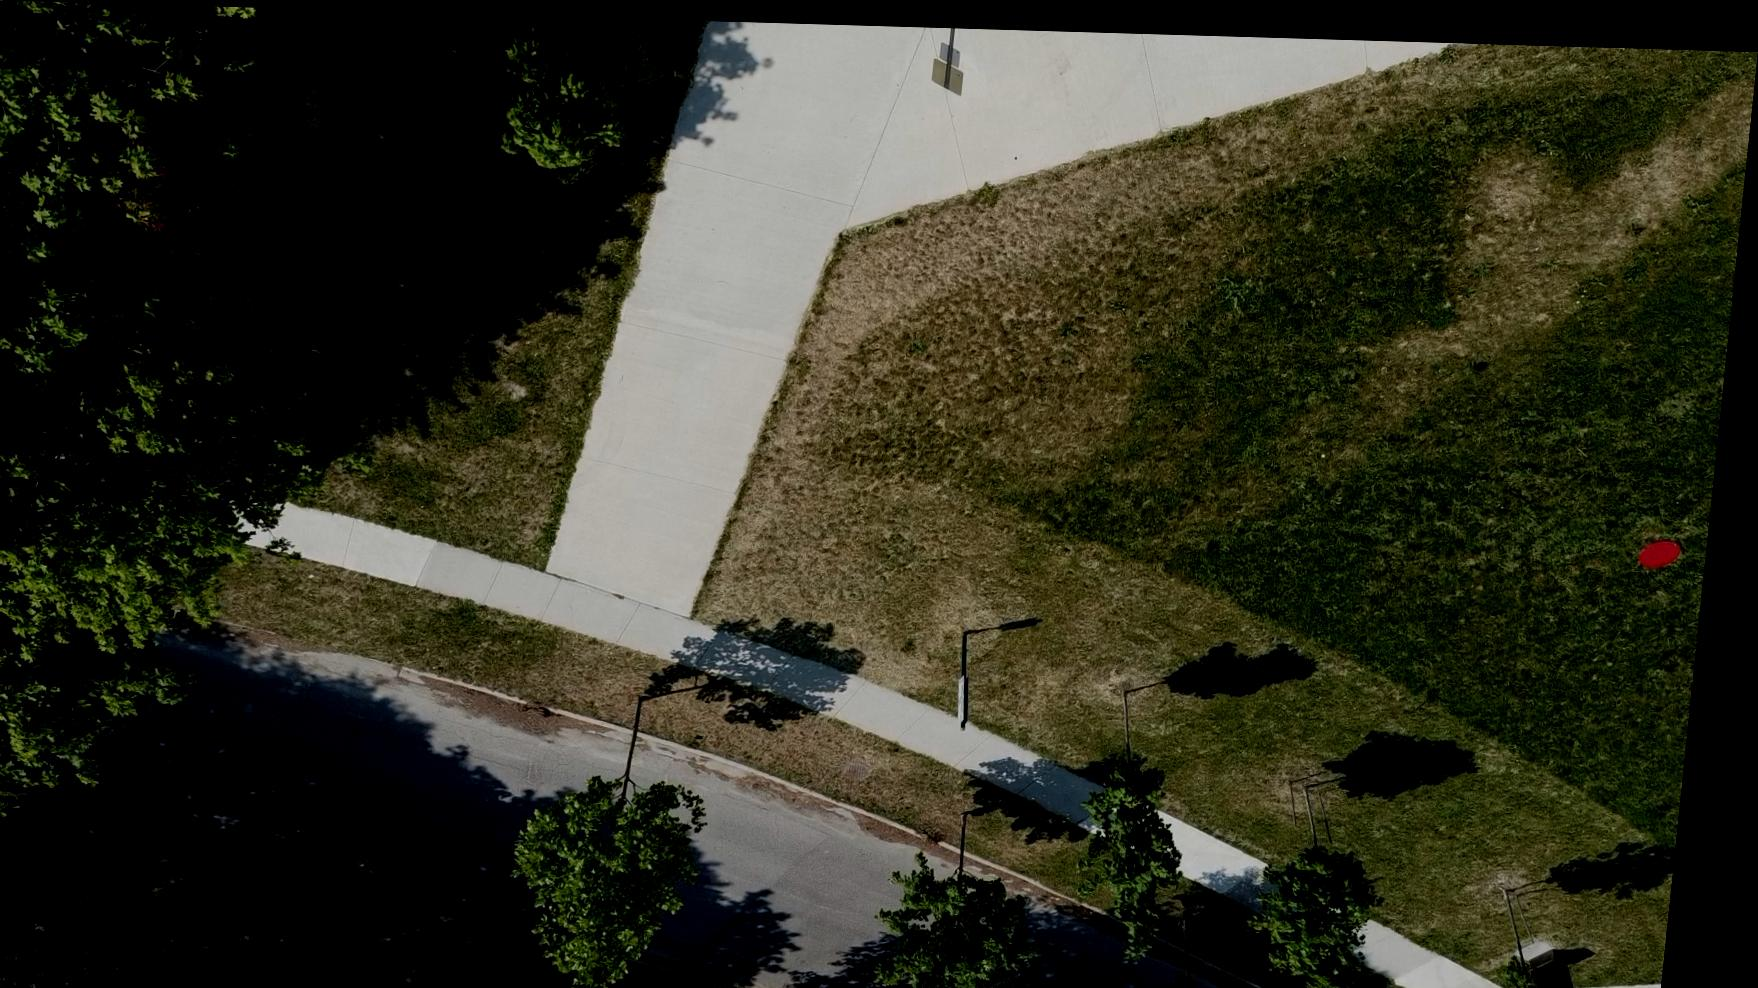Red: (1647, 528, 1694, 560)
